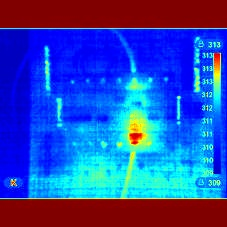High: (121, 124, 151, 152)
